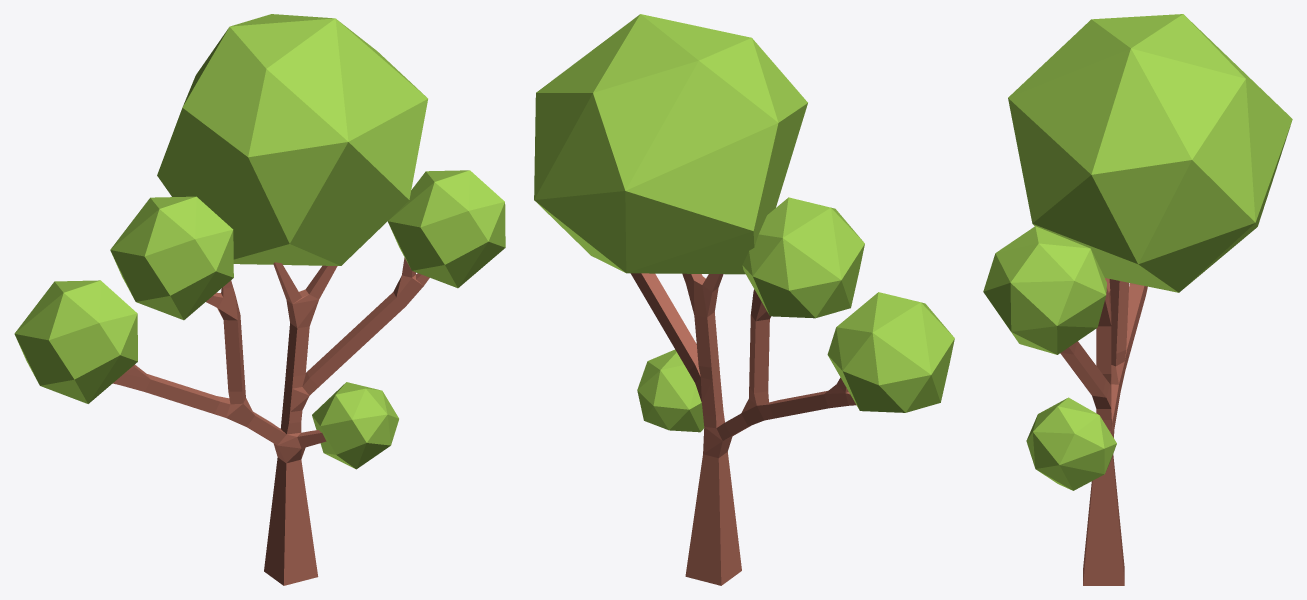
The model's file is tree_5.fbx.
3 renders of one model, left to right at view 1: azimuth 30°, elevation 25°; view 2: azimuth 150°, elevation 25°; view 3: azimuth 270°, elevation 25°, orthographic. The views are drawn at different scales.
Visible parts, largest first — view 1: Sphere.020; view 2: Sphere.020; view 3: Sphere.020.
Part boxes in pixels (left/top/right/bottom): Sphere.020: left=14, top=14, right=505, bottom=585; Sphere.020: left=534, top=14, right=954, bottom=585; Sphere.020: left=983, top=14, right=1292, bottom=585.
Size of the model in its own units: 416 by 495 by 248.
